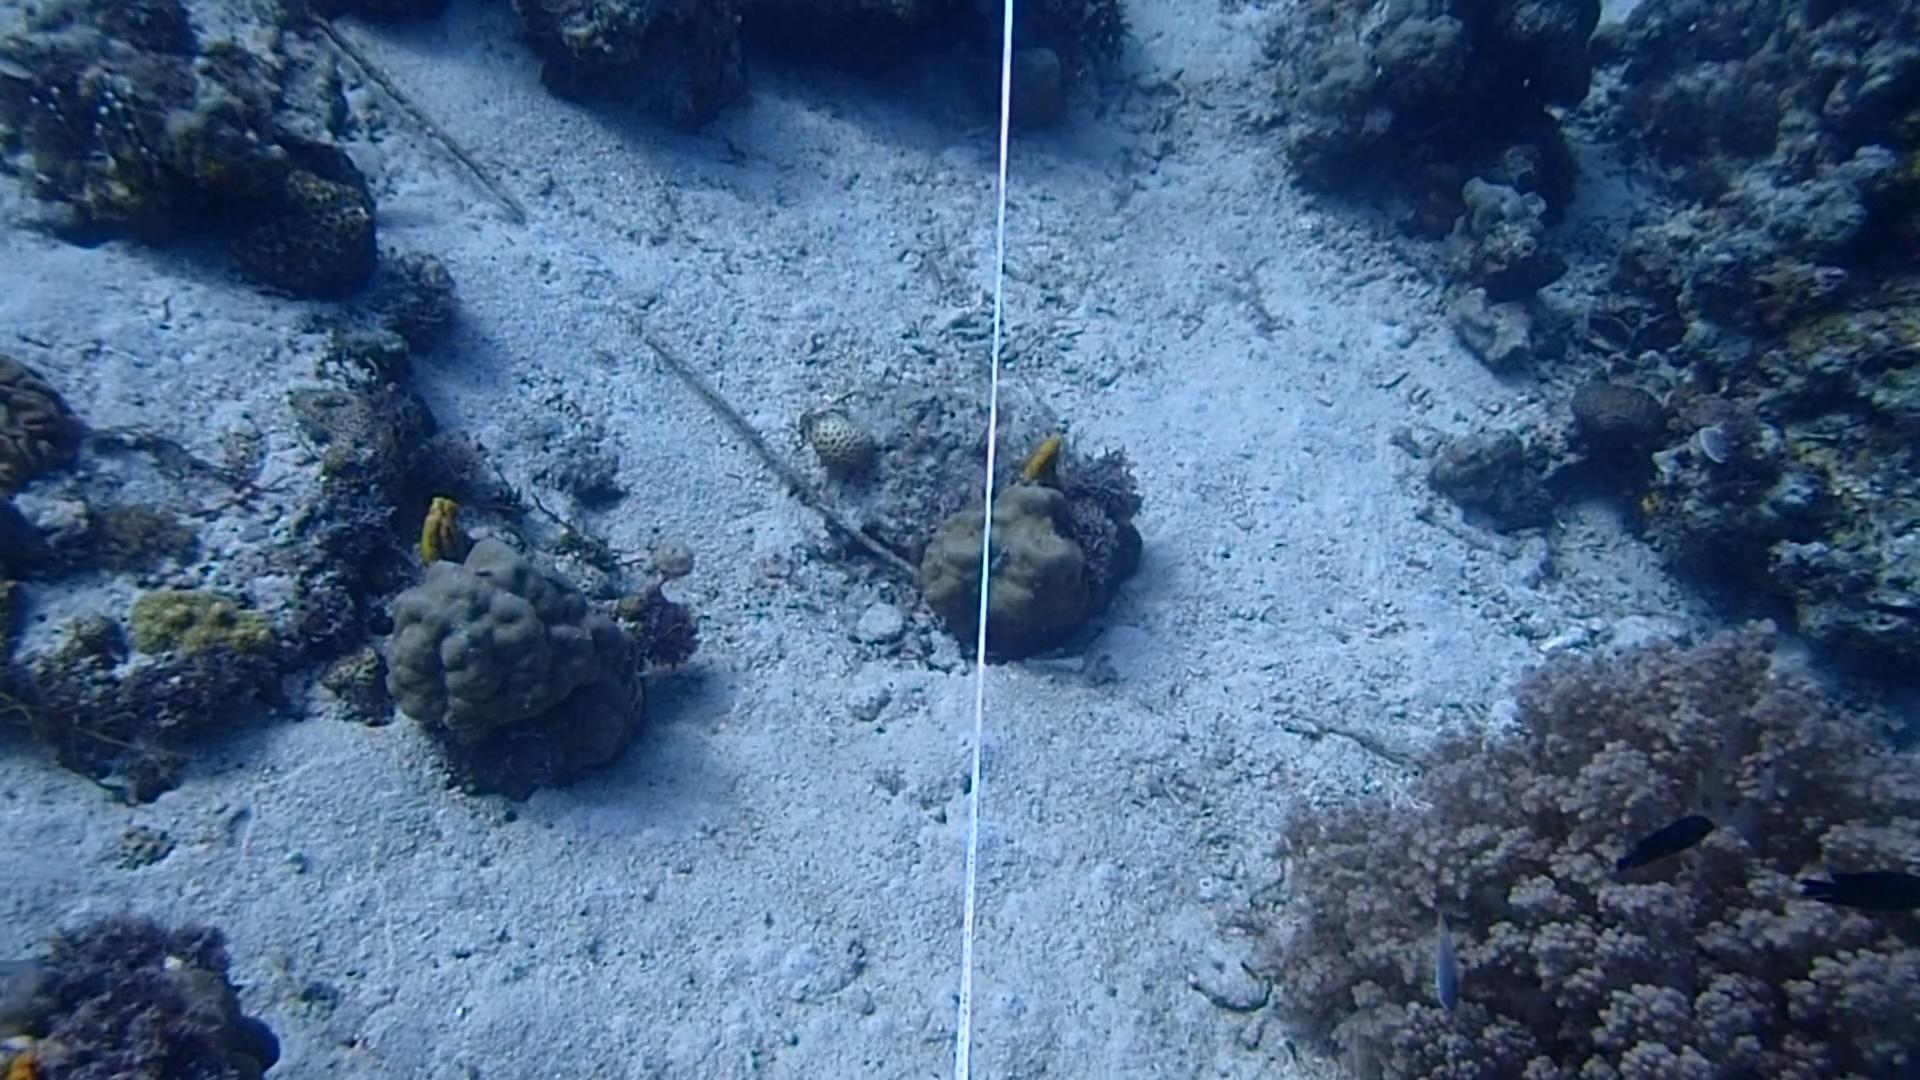Dark Fish: (1607, 793, 1718, 890), (1791, 857, 1920, 931)
Light Fish: (1411, 907, 1481, 1026)
